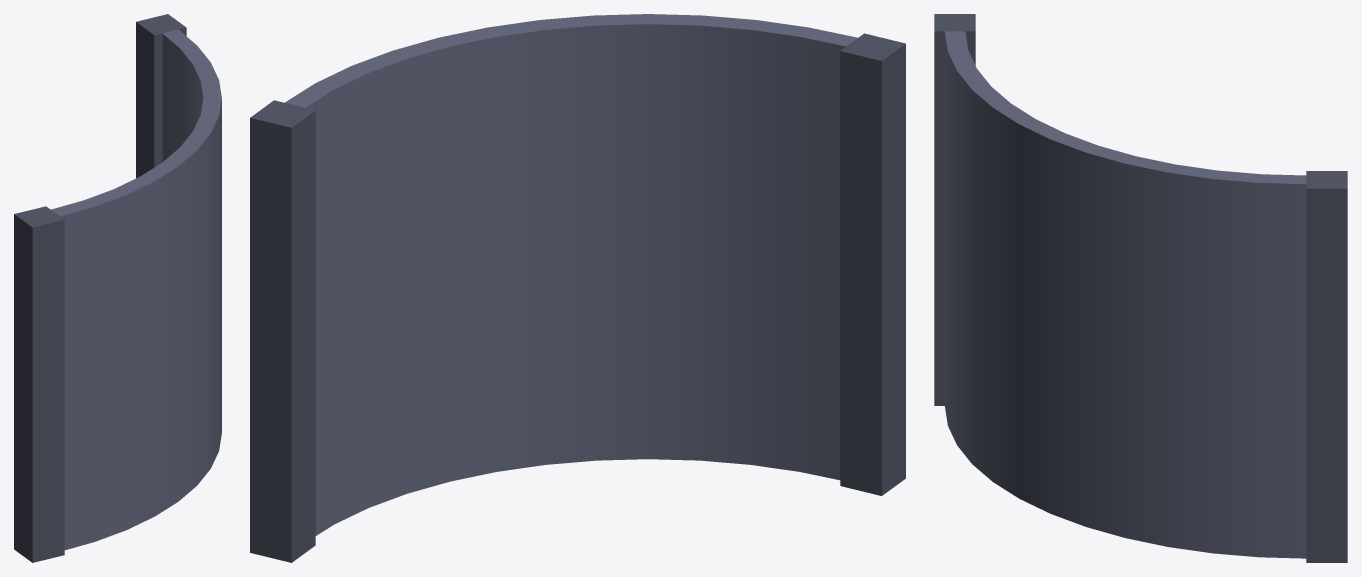
The model's file is wall-wood-curved.glb.
3 renders of one model, left to right at view 1: azimuth 30°, elevation 25°; view 2: azimuth 150°, elevation 25°; view 3: azimuth 270°, elevation 25°, orthographic. The views are drawn at different scales.
Visible parts, largest first — view 1: wall-wood-curved; view 2: wall-wood-curved; view 3: wall-wood-curved.
Part boxes in pixels (x1,y1,x2,y2): wall-wood-curved: [14, 14, 221, 562]; wall-wood-curved: [250, 14, 905, 562]; wall-wood-curved: [934, 14, 1347, 562].
Size of the model in its own units: 1 by 1 by 1.
1 material, 1 textured.
